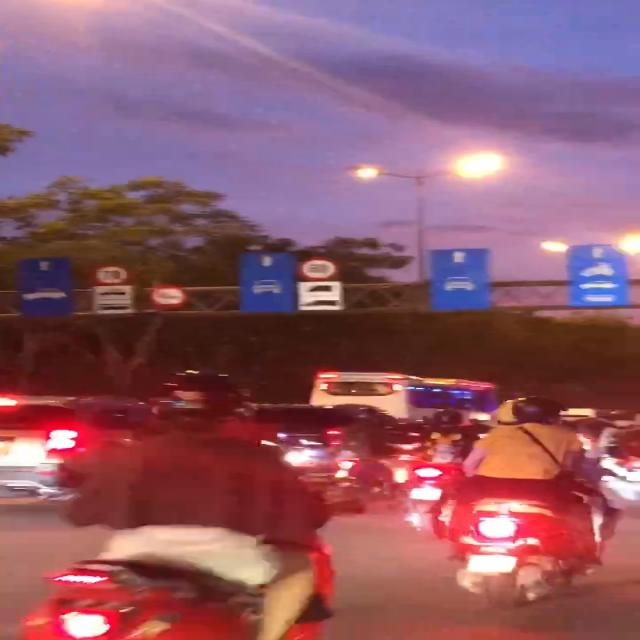Bien bao toc do toi da cho phep: (287, 251, 343, 284), (91, 262, 136, 286)
